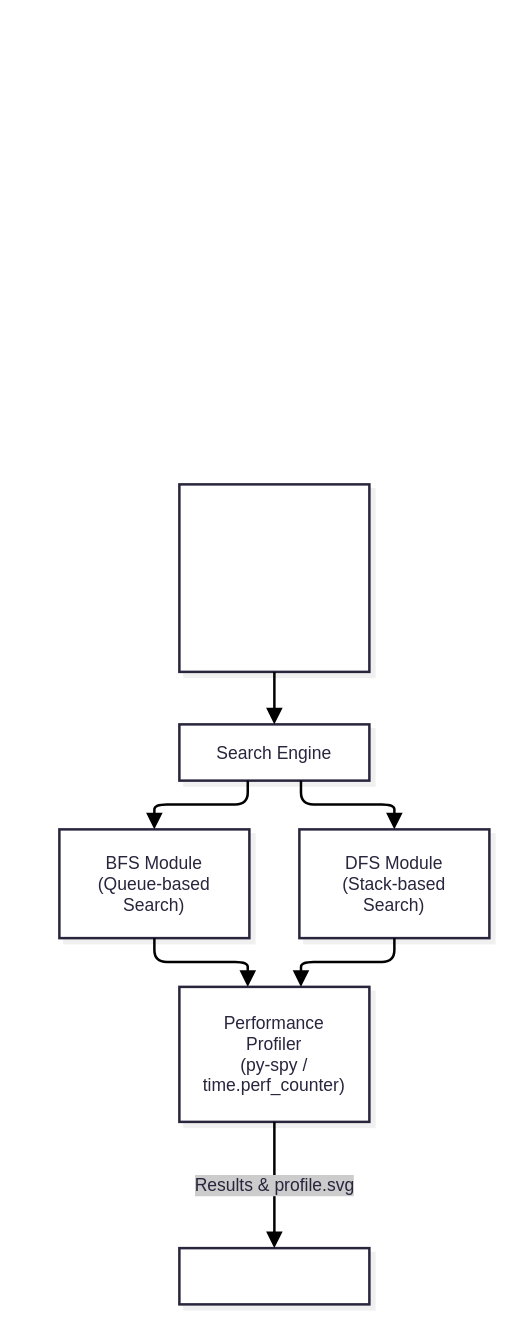
The diagram is 516 pixels wide and 1331 high, and some of its shapes have lost their labels. The centre of each missing label's shape, as x and y in pixels:
"Graph Input & Case Configurator (26-Node A-Z Graph & Goal Cases)" belongs at [276,580].
"Output / Results" belongs at [276,1278].
